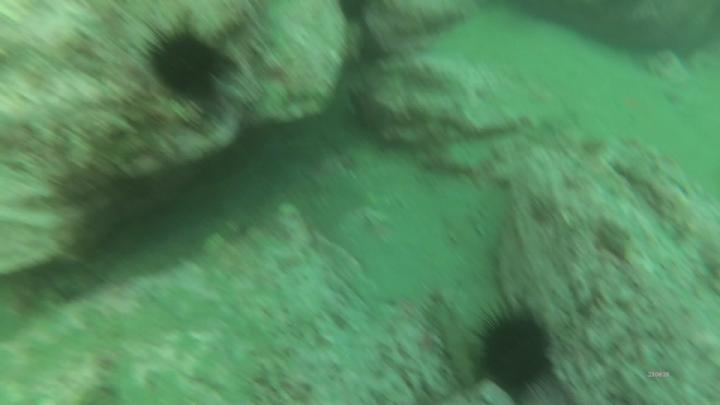echinus: (469, 297, 560, 402), (138, 17, 238, 109)
